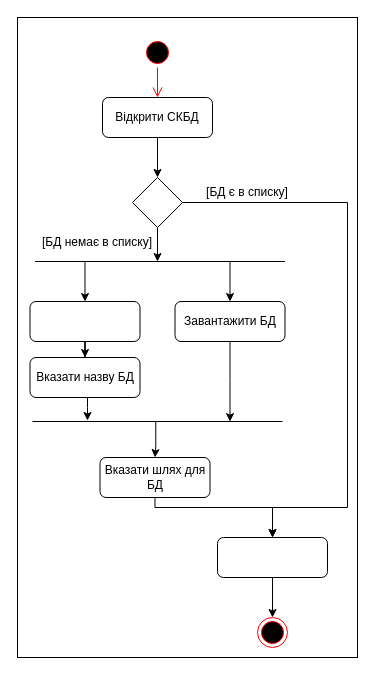
Some shapes in this 375 by 675 pixel diagram are drawn without their labels. The shapes that lost their labels are listed below. From the top down, each one's box as (x1, y1, x2, y2) in pixels, then its label:
(29, 300, 140, 342): Створити БД
(216, 536, 328, 578): Відкрити БД
